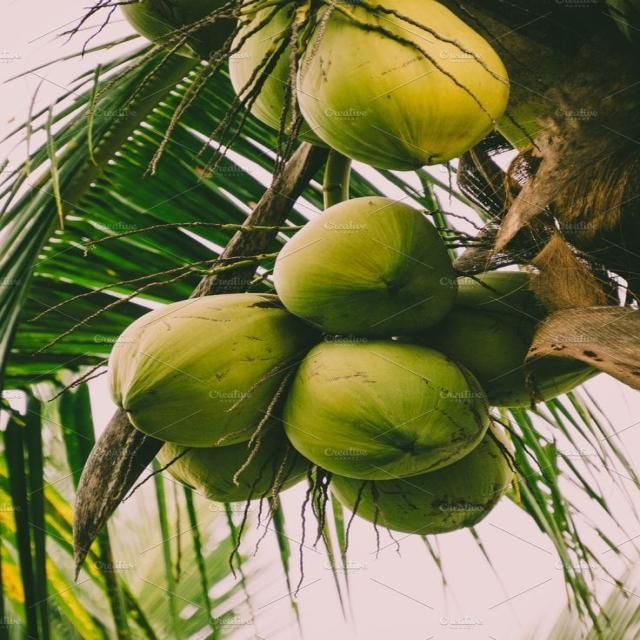Coconut-tree: (21, 14, 617, 628), (141, 27, 530, 539)
